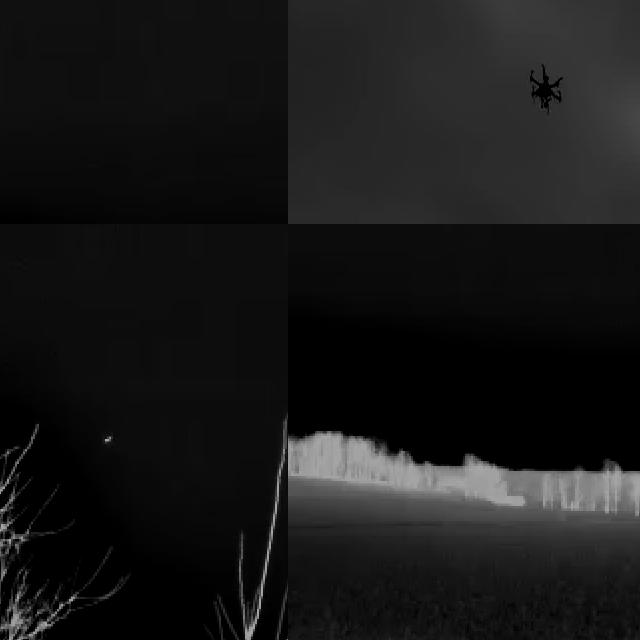0: (96, 427, 124, 459)
drone: (525, 60, 566, 112)
